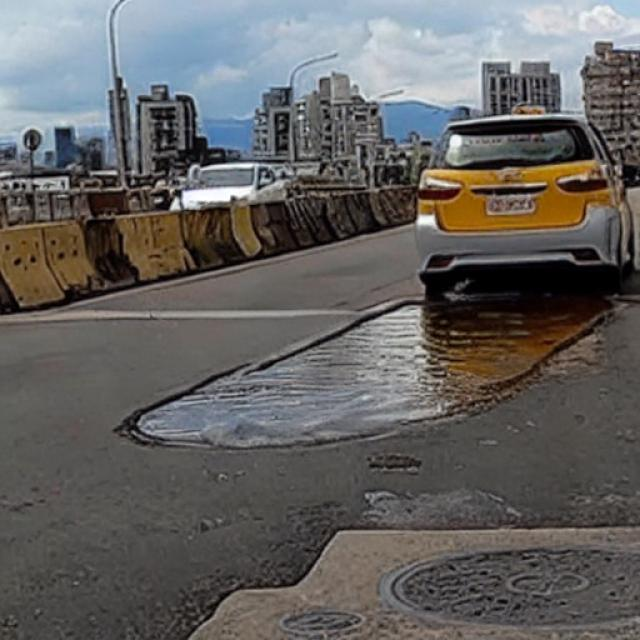puddle: (128, 300, 613, 447)
